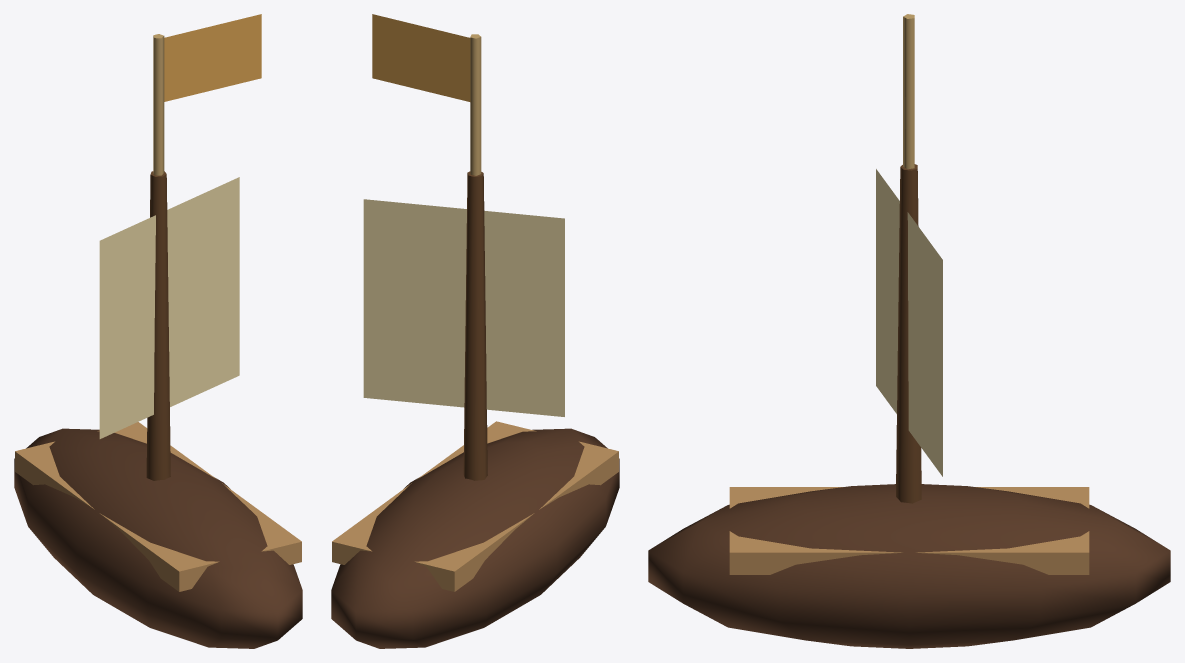
The model's file is ship.glb.
The picture shows the model from 3 angles, left to right: view 1: azimuth 30°, elevation 25°; view 2: azimuth 150°, elevation 25°; view 3: azimuth 270°, elevation 25°; orthographic projection. The views are drawn at different scales.
Parts seen in each view (by area): view 1: ship; view 2: ship; view 3: ship.
Boxes of the visible parts, bbox=[...] form: ship: bbox=[14, 14, 302, 648]; ship: bbox=[331, 14, 619, 648]; ship: bbox=[648, 14, 1170, 648].
Size of the model in its own units: 0.3312 by 0.97 by 0.7409.
